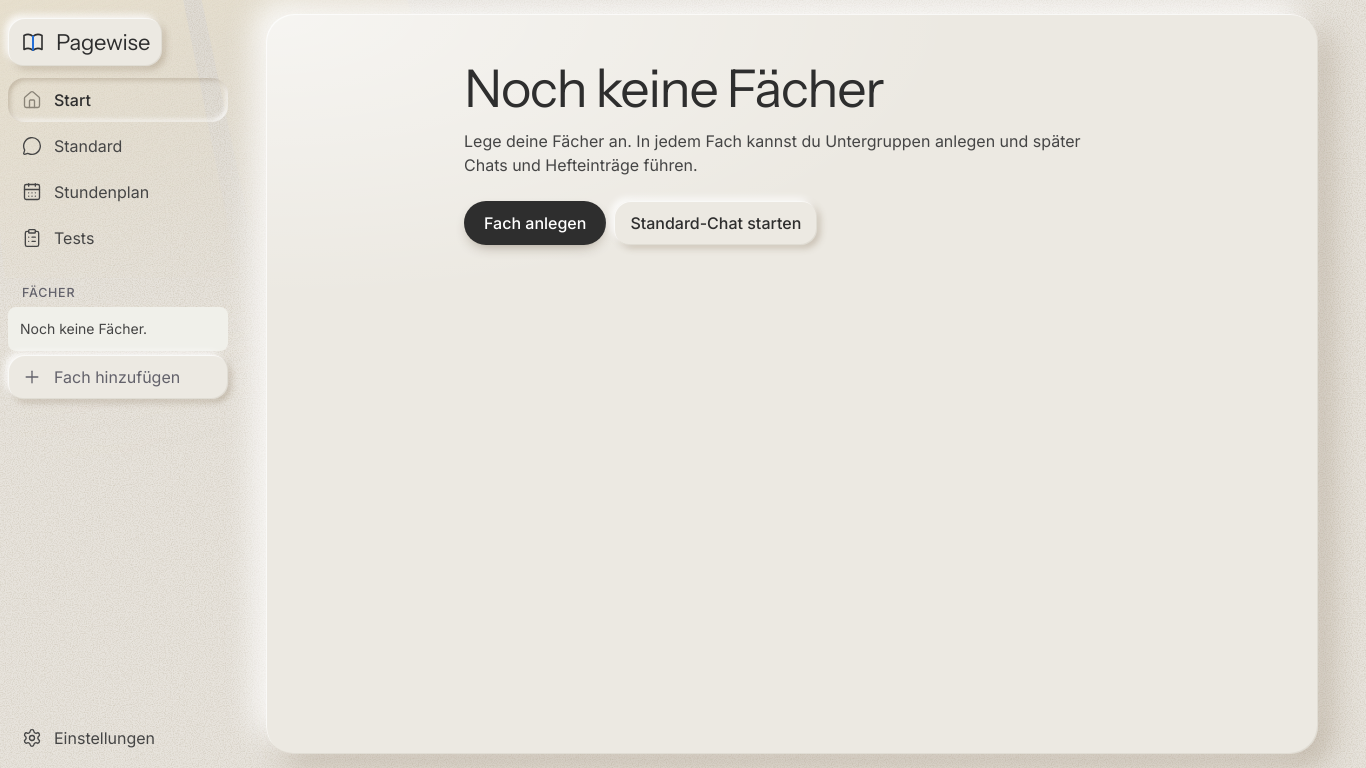
Test: Standard-Chat über den Namen „Pagewise“ › öffnet bei einer leeren Installation einen Chat im Fach „Standard“, ganz ohne Schulfach
The image size is (1366, 768).
Click the link with aria-label "Pagewise – Standard-Chat öffnen" at (85, 42), box left=8, top=18, right=162, bottom=66
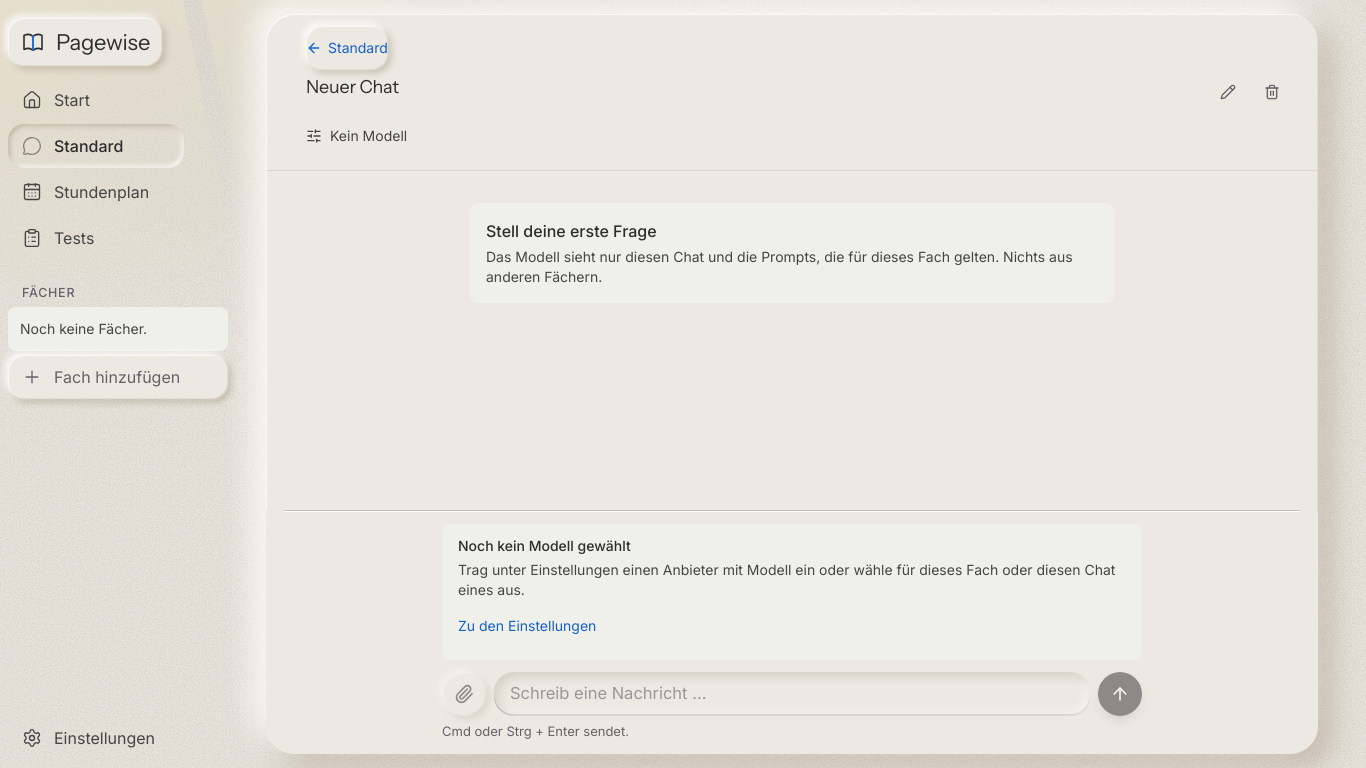
Now the text box labelled "Nachricht" is shown, box left=494, top=672, right=1090, bottom=716
